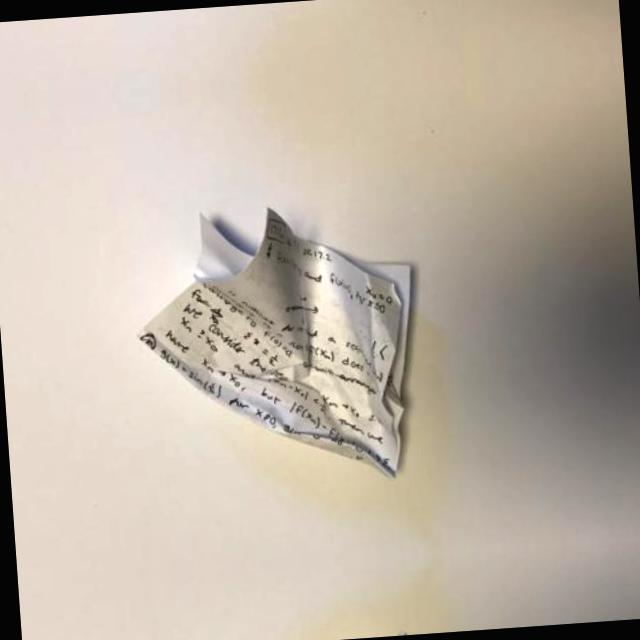paper: (89, 152, 469, 498), (123, 626, 480, 640)
